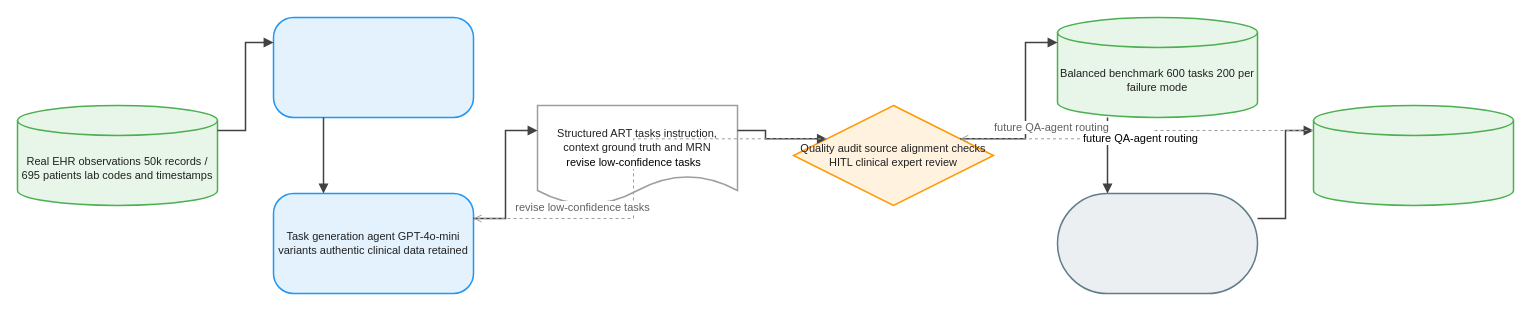
This 1532x312 diagram has some shape labels left out. Each missing label, with the centre of its shape:
"AgentBench evaluation FHIR live EHR API stateless temperature 0" goes at (x=1157, y=243).
"Scenario identification retrieval, aggregation threshold failure modes" goes at (x=373, y=67).
"Success-rate report exact match by category retrieval, aggregation, threshold" goes at (x=1413, y=155).
